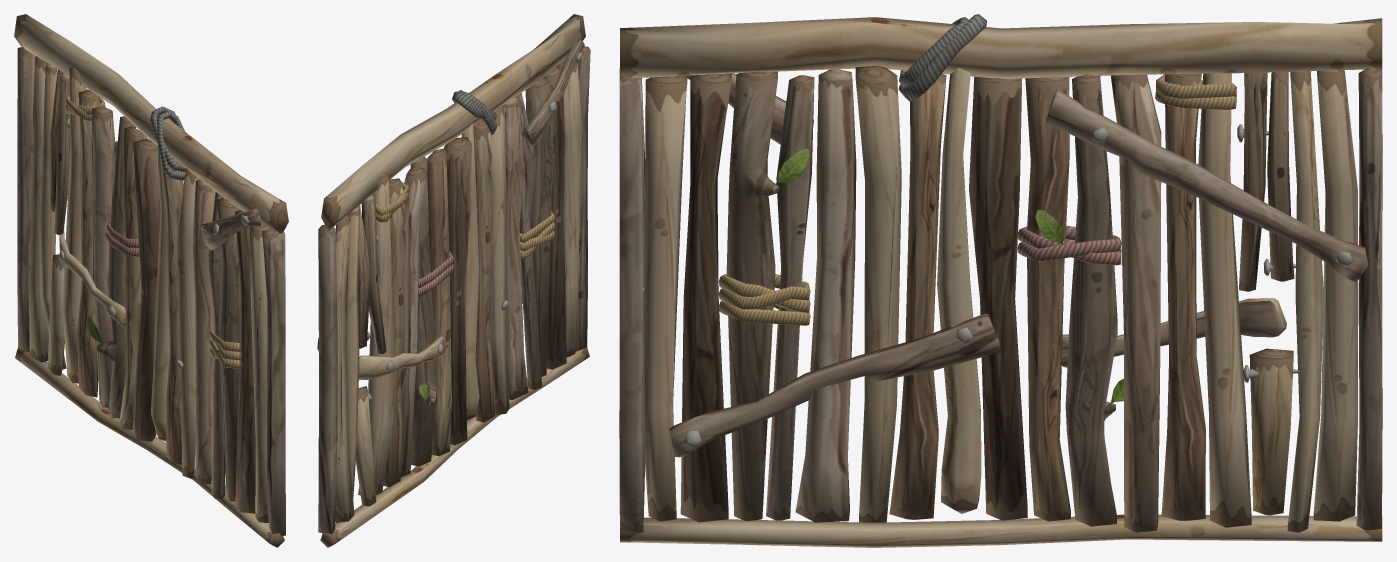
File: wood-wall.glb
3 renders of one model, left to right at view 1: azimuth 30°, elevation 25°; view 2: azimuth 150°, elevation 25°; view 3: azimuth 270°, elevation 25°, orthographic. The views are drawn at different scales.
Parts seen in each view (by area): view 1: PBW_W1_Solid.dmx-static; view 2: PBW_W1_Solid.dmx-static; view 3: PBW_W1_Solid.dmx-static.
Part boxes in pixels (x1,y1,x2,y2): PBW_W1_Solid.dmx-static: (14,14,288,547); PBW_W1_Solid.dmx-static: (317,14,590,547); PBW_W1_Solid.dmx-static: (619,14,1382,547).
Bounding box in the file's own units: 0.5062 × 4.15 × 5.43.
1 material, 1 textured.
